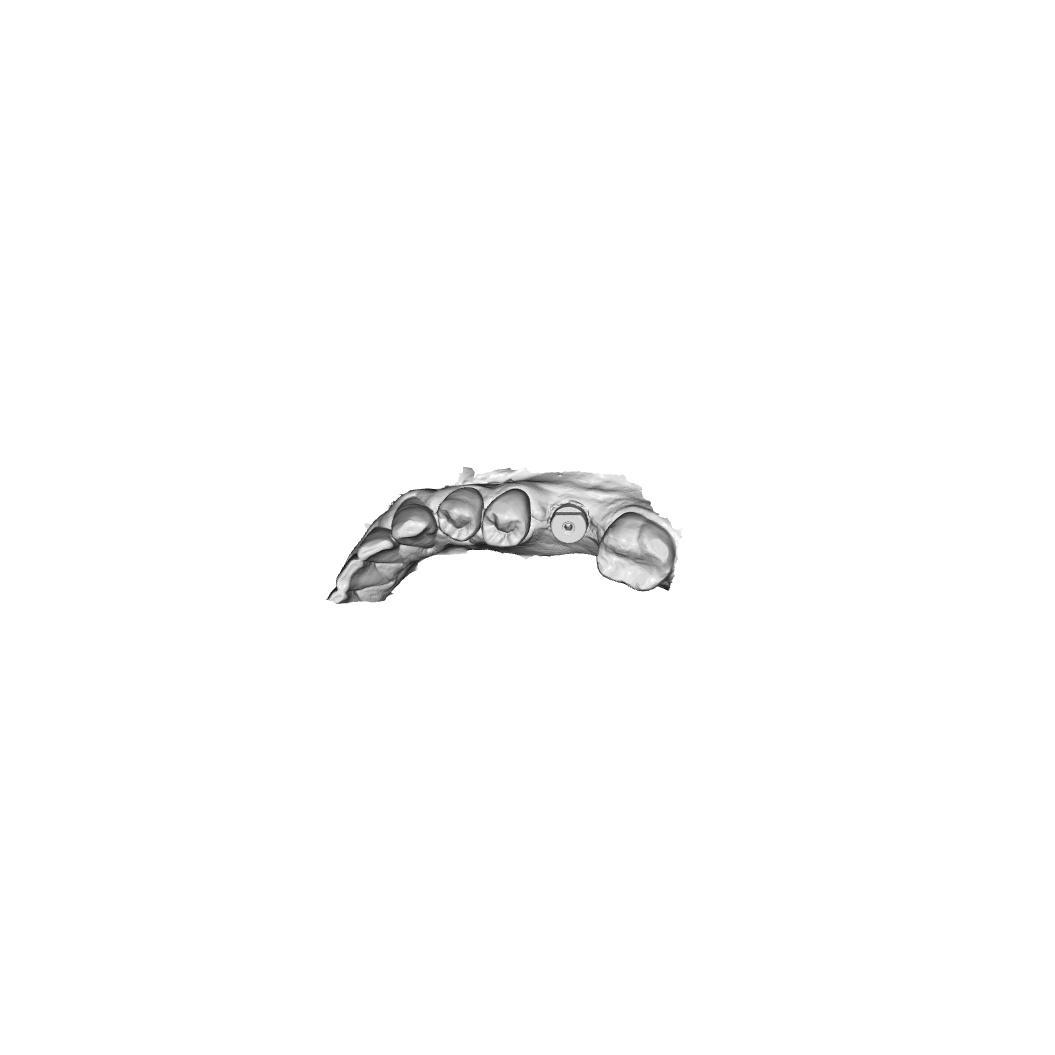canine: (390, 496, 438, 549)
implant: (550, 502, 589, 546)
incisor: (334, 556, 393, 595), (357, 526, 400, 565)
molar: (595, 511, 676, 592)
premolar: (481, 487, 532, 548), (436, 486, 484, 543)
